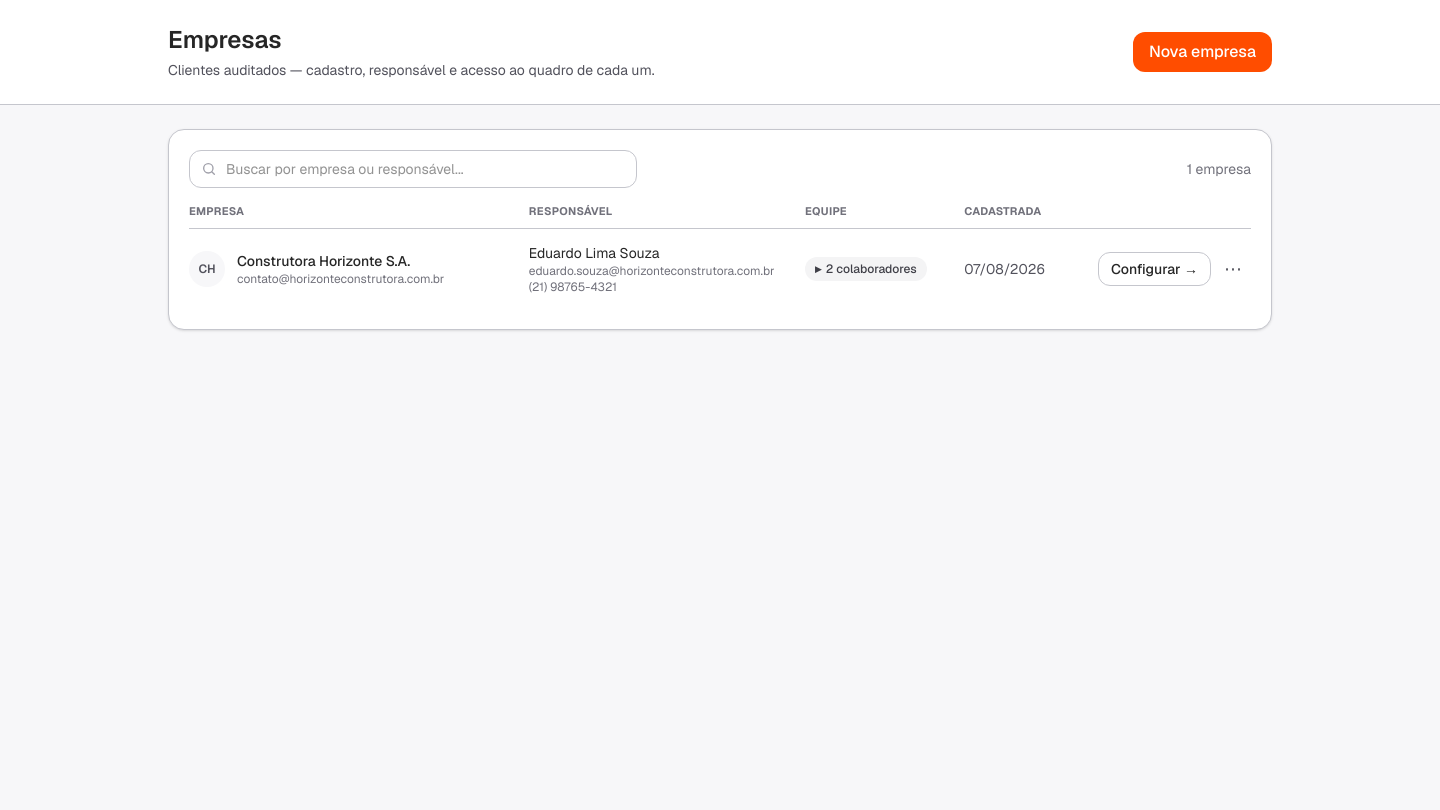
Test case: EmpresasClient › abre o diálogo de exclusão com o aviso de cascata
Click the button named "Mais ações para Construtora Horizonte" at x=1233, y=269, box [1215,251,1251,287]
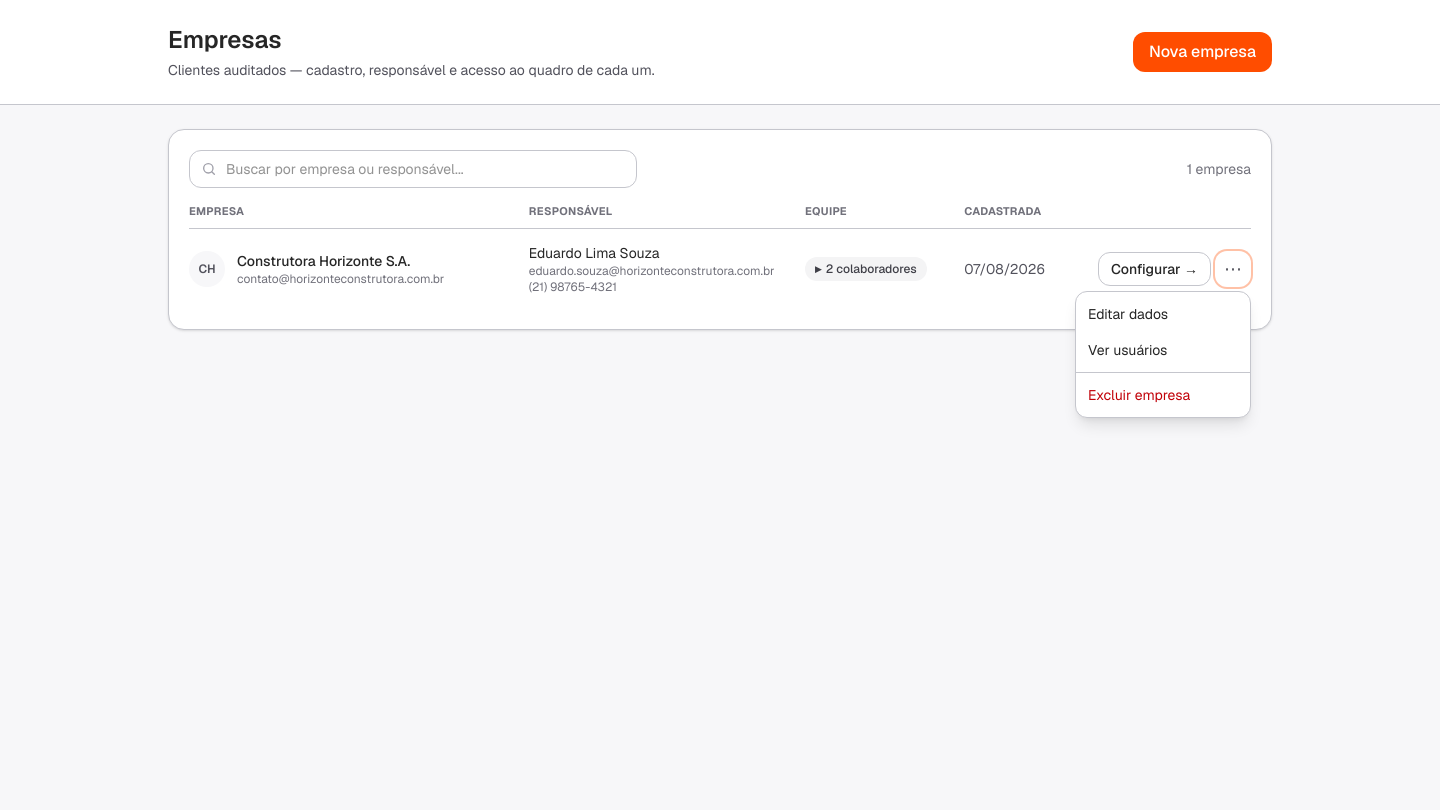
Click the menu item "Excluir empresa" at x=1163, y=395, box [1076,377,1250,413]
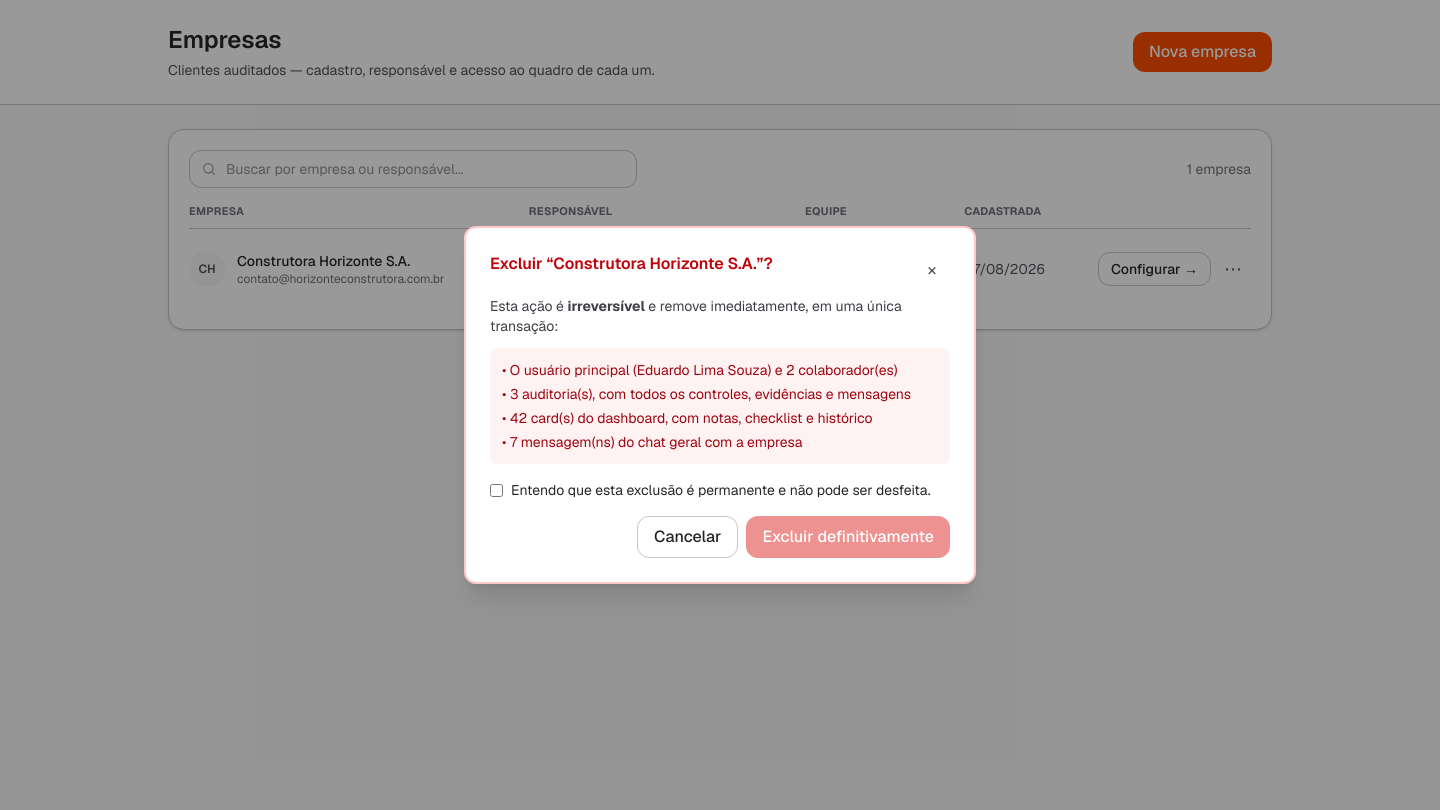
Now the text "irreversível" is shown, box [567,297,645,315]
Now the button "Excluir definitivamente" is disabled, box [746,516,950,558]
